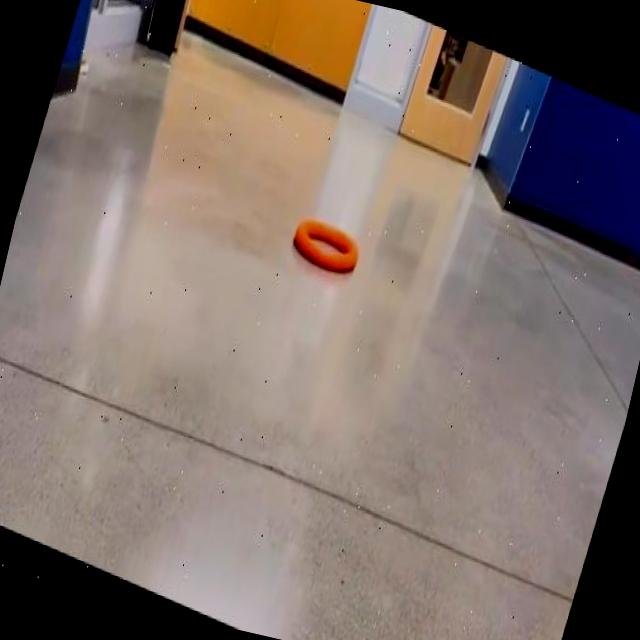note: (294, 218, 358, 271)
